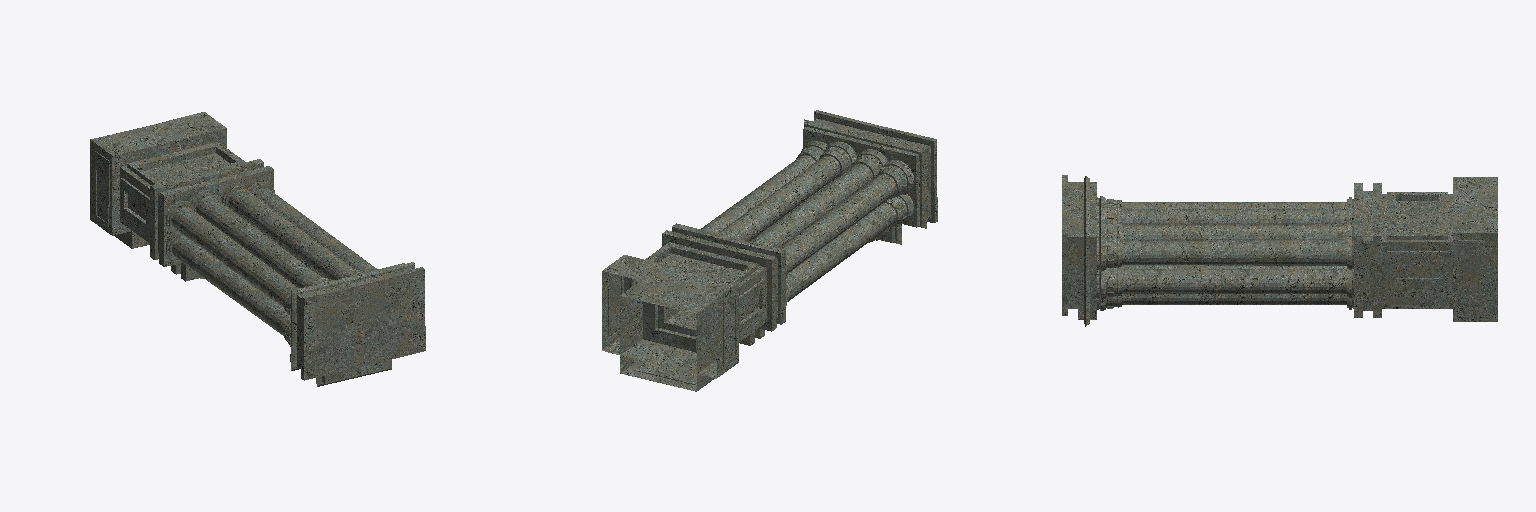
The picture shows the model from 3 angles: view 1: azimuth 30°, elevation 25°; view 2: azimuth 150°, elevation 25°; view 3: azimuth 270°, elevation 25°; orthographic projection.
Visible parts, largest first — view 1: obj1; view 2: obj1; view 3: obj1.
Boxes of the visible parts, <box> form: obj1: <box>90,112,425,386</box>; obj1: <box>602,110,937,391</box>; obj1: <box>1062,175,1497,326</box>.
Size of the model in its own units: 0.0233 by 0.0186 by 0.071.
Materials: 1 (1 with a texture image).